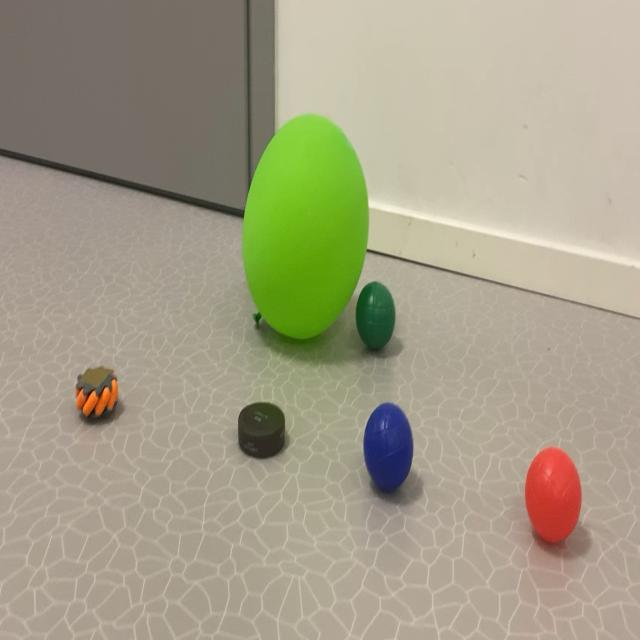7: (478, 406, 624, 614)
green ball: (346, 385, 442, 526)
red ball: (339, 245, 424, 387)
